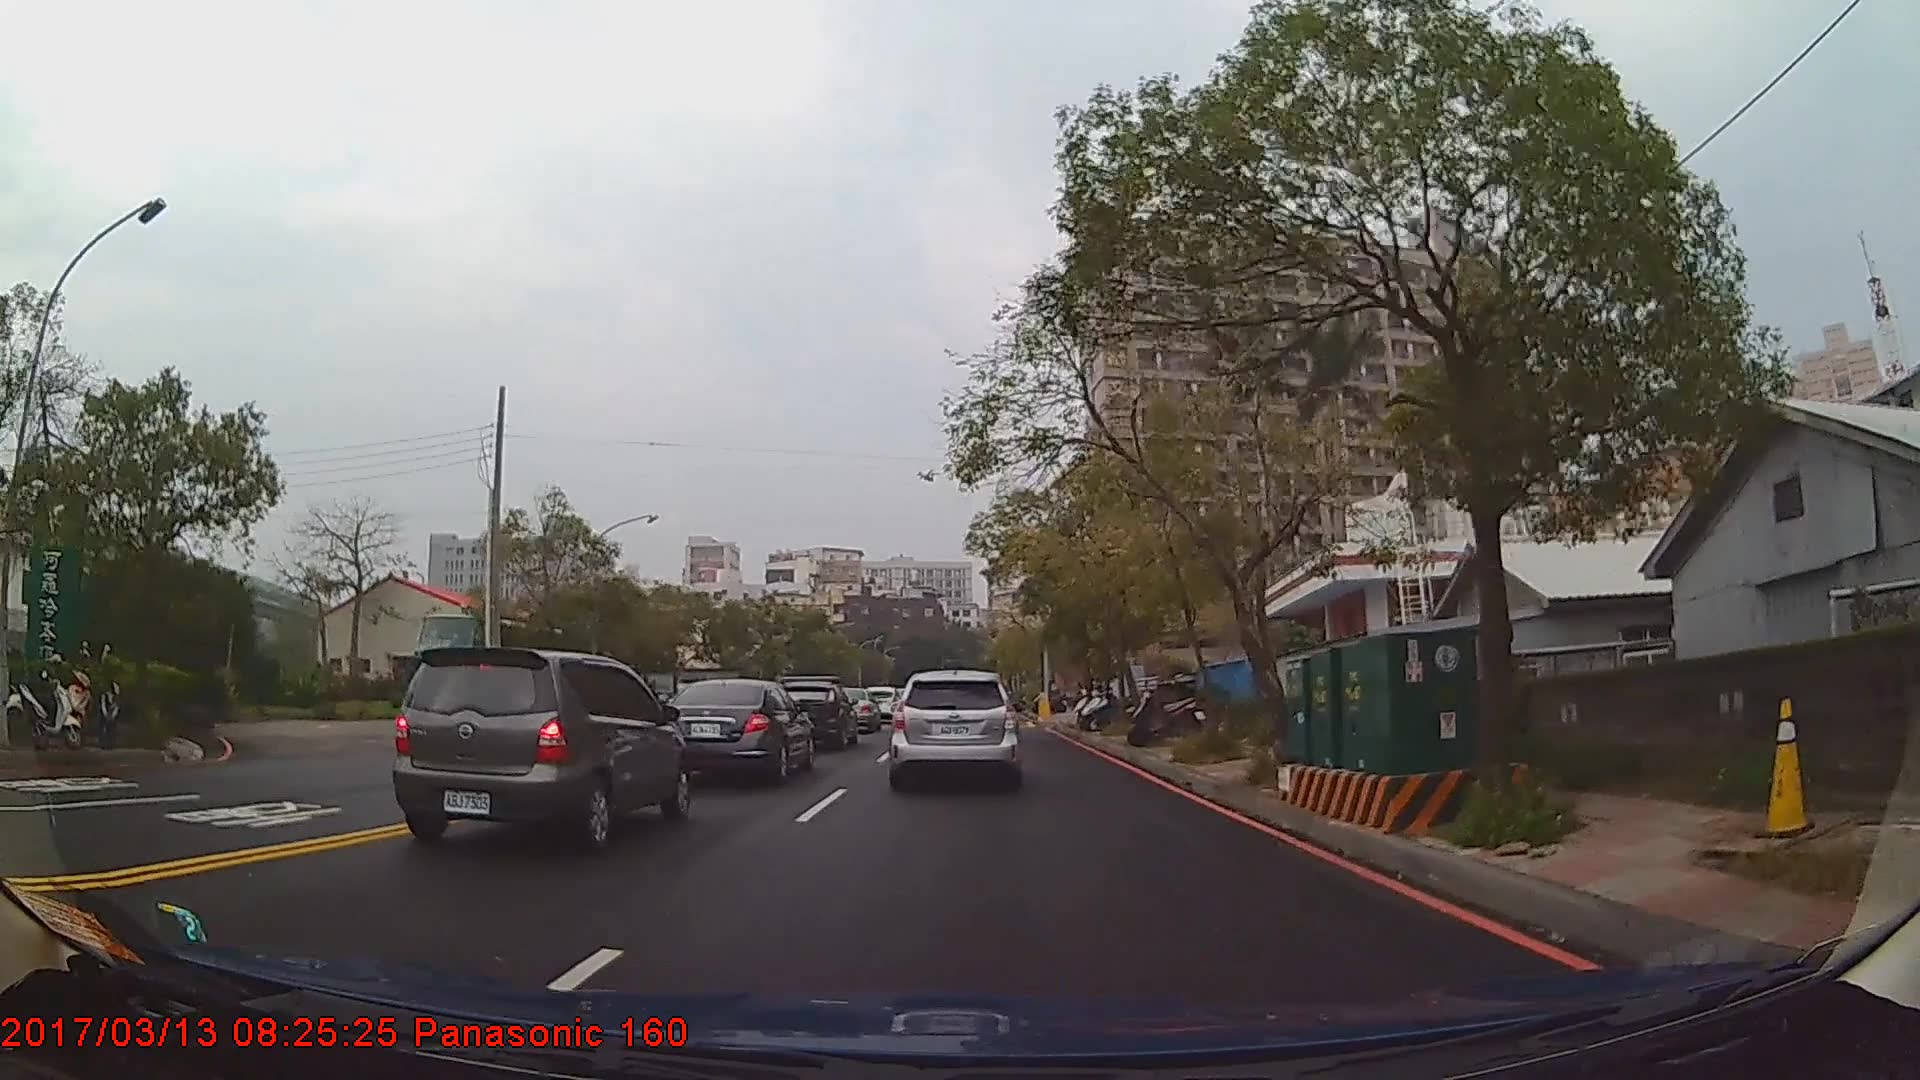vehicle: (389, 647, 692, 855), (655, 679, 816, 782), (889, 673, 1021, 790), (771, 680, 856, 748), (828, 687, 881, 733)
